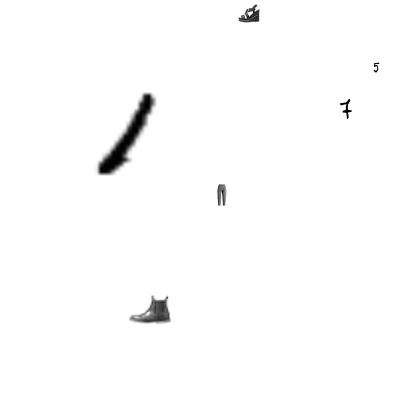1: (71, 82, 183, 194)
5: (369, 60, 383, 74)
7: (332, 94, 360, 122)
Ankle_boot: (129, 288, 171, 330)
Sandal: (238, 2, 260, 24)
Trouser: (211, 184, 233, 206)
